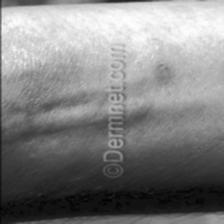Non-Cancerous Skin Condition: (0, 23, 96, 185), (134, 7, 224, 121)
